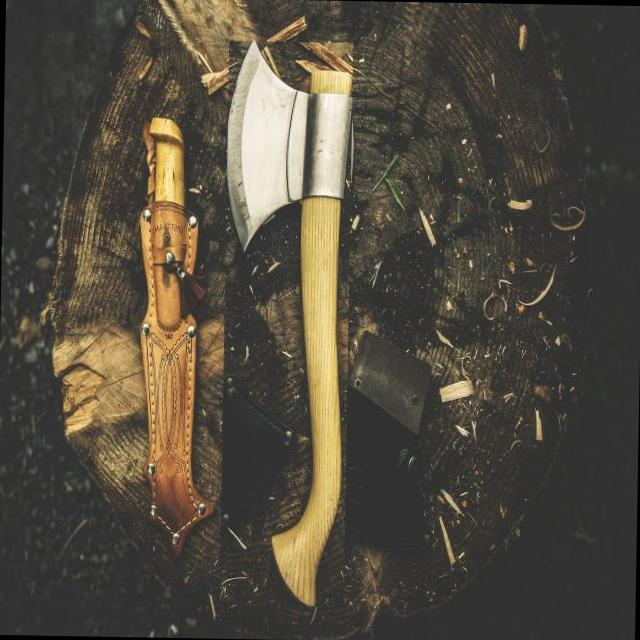Axe: (228, 41, 352, 606)
Knife: (139, 117, 212, 552)
